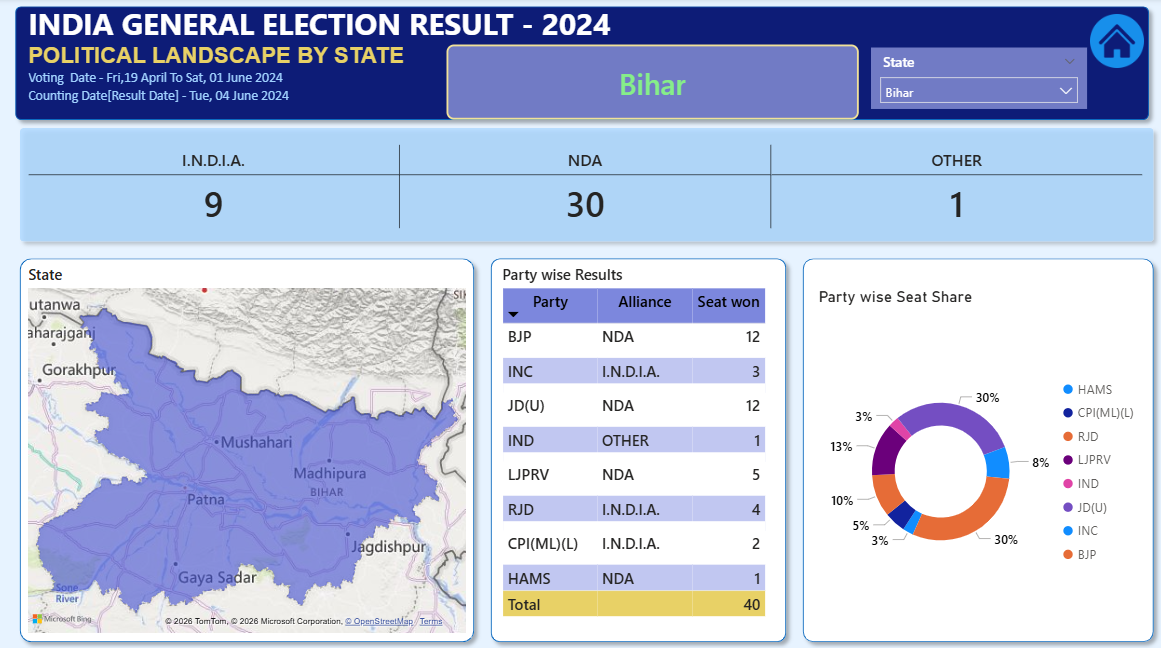

What the dashboard file says about the page in this screenshot:
{"tool":"powerbi","page":{"name":"Political Landscape by State ","canvas":[1250,700],"ordinal":2},"visuals":[{"type":"shape","box":[9.2,0,1235,140],"z":0},{"type":"textbox","box":[27.7,0,658.8,140.3],"z":1000},{"type":"shape","box":[14.5,130.4,1235.2,140.1],"z":2000},{"type":"cardVisual","fields":{"Data":["CountNonNull(constituencywise_results.Constituency Name)"],"Rows":["partywise_results.Party Alliance"]},"box":[27.4,132.1,1206.2,140.1],"z":3000},{"type":"slicer","fields":{"Values":["states.State"]},"box":[937.3,53.1,231.9,66],"z":4000},{"type":"shape","box":[14.5,270.6,505.7,430],"z":5000},{"type":"shape","box":[520.2,270.6,335,430],"z":6000},{"type":"shape","box":[855.2,270.6,394.6,430],"z":7000},{"type":"filledMap","fields":{"Category":["states.State"]},"box":[27.4,285.1,479.9,401],"z":8000},{"type":"tableEx","title":"Party wise Results","fields":{"Values":["partywise_results.Party Short","partywise_results.Party Alliance","CountNonNull(constituencywise_results.Constituency Name)"]},"box":[536.3,285.1,299.5,401],"z":9000},{"type":"donutChart","title":"Party wise Seat Share","fields":{"Y":["CountNonNull(constituencywise_results.Constituency Name)"],"Category":["partywise_results.Party Short"]},"box":[876.1,310.8,357.5,375.2],"z":10000},{"type":"cardVisual","fields":{"Data":["Min(states.State)"]},"box":[481.5,49.9,442.9,80.5],"z":11000},{"type":"image","box":[1172.4,14.5,58,62.8],"z":12000}]}

Visuals, with their boxes in screenshot pixels (x1, y1, x2, y2), scaled from the page's 1250x700 canvas onto the 1161x648 screenshot:
shape: crop(9, 0, 1156, 130)
textbox: crop(26, 0, 638, 130)
shape: crop(13, 121, 1160, 250)
cardVisual - CountNonNull(constituencywise_results.Constituency Name) x partywise_results.Party Alliance: crop(25, 122, 1146, 252)
slicer - states.State: crop(871, 49, 1086, 110)
shape: crop(13, 250, 483, 647)
shape: crop(483, 250, 794, 647)
shape: crop(794, 250, 1160, 647)
filledMap - states.State: crop(25, 264, 471, 635)
"Party wise Results" tableEx: crop(498, 264, 776, 635)
"Party wise Seat Share" donutChart: crop(814, 288, 1146, 635)
cardVisual - Min(states.State): crop(447, 46, 859, 121)
image: crop(1089, 13, 1143, 72)
